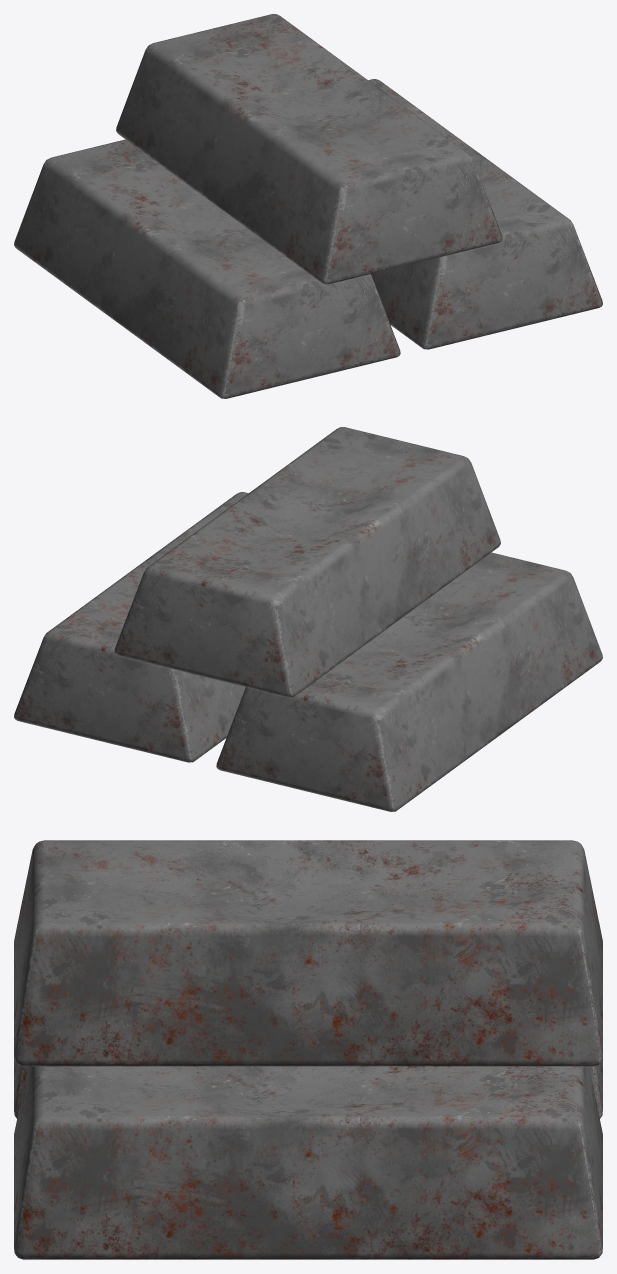
File: iron_ingots.b7d14eaefd.glb
The picture shows the model from 3 angles, top to bottom: view 1: azimuth 30°, elevation 25°; view 2: azimuth 150°, elevation 25°; view 3: azimuth 270°, elevation 25°; orthographic projection. The views are drawn at different scales.
Visible parts, largest first — view 1: iron_ingots_0, iron_ingots_1, iron_ingots_2; view 2: iron_ingots_0, iron_ingots_1, iron_ingots_2; view 3: iron_ingots_0, iron_ingots_2, iron_ingots_1.
Part boxes in pixels (bbox=[...]): iron_ingots_0: bbox=[116, 14, 502, 284]; iron_ingots_1: bbox=[14, 139, 400, 398]; iron_ingots_2: bbox=[368, 79, 602, 349]; iron_ingots_0: bbox=[114, 427, 500, 697]; iron_ingots_1: bbox=[216, 552, 602, 811]; iron_ingots_2: bbox=[14, 492, 248, 762]; iron_ingots_0: bbox=[14, 840, 602, 1066]; iron_ingots_2: bbox=[14, 1066, 602, 1259]; iron_ingots_1: bbox=[14, 1057, 602, 1118].
Bounding box in the file's own units: 0.26 × 0.1164 × 0.2485.
Materials: 1 (1 with a texture image).
